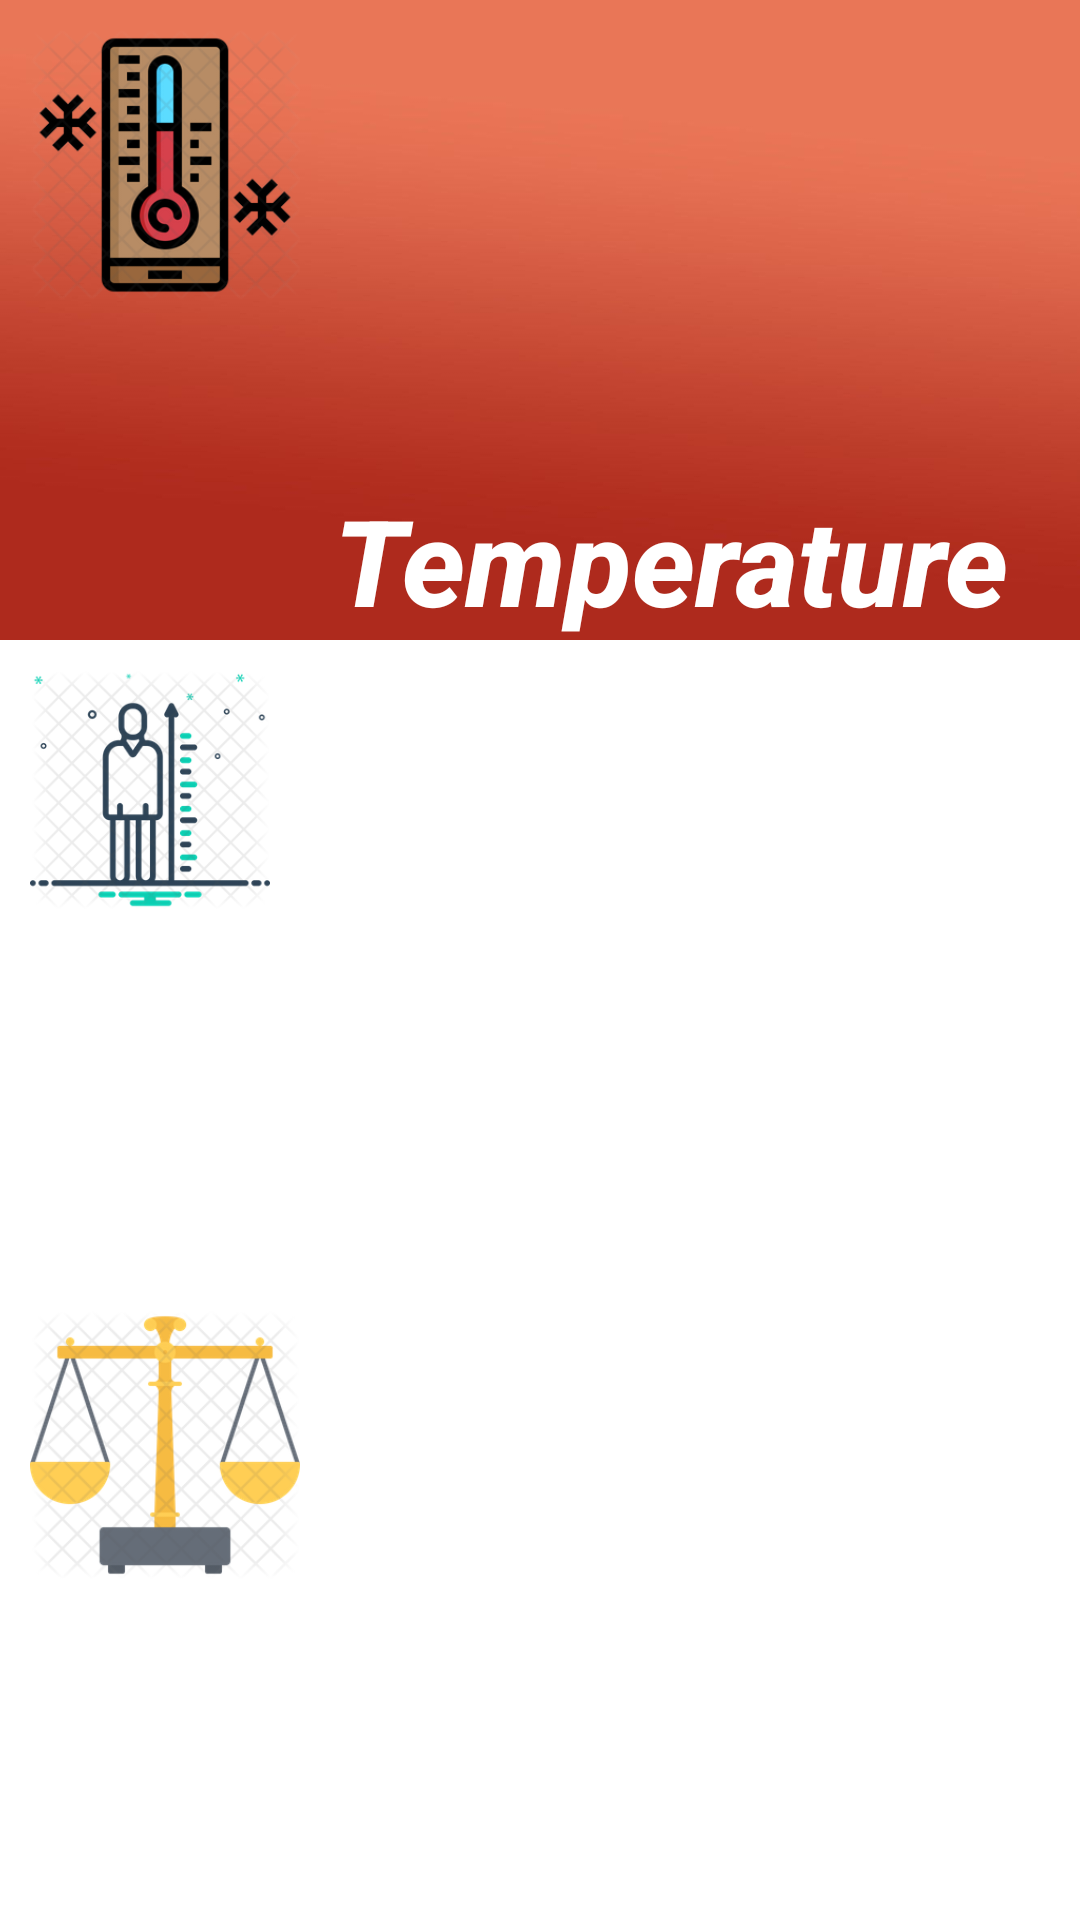

Screen size 1080x1920. Icon name, then its center in pixels as (x=x, y=y):
length: (x=150, y=790)
weight: (x=165, y=1445)
